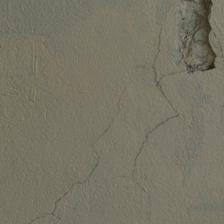Crack: (0, 82, 189, 224), (0, 98, 129, 170), (67, 13, 144, 65)
